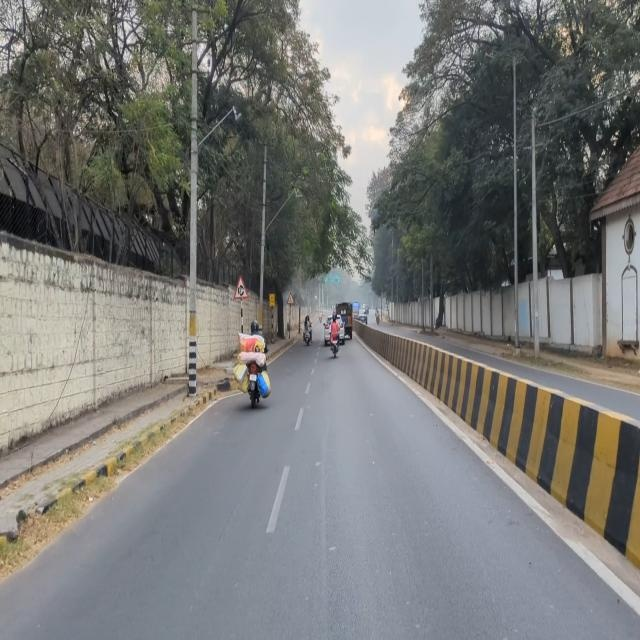bien_nguy_hiem: (234, 274, 249, 300), (286, 291, 294, 305)
